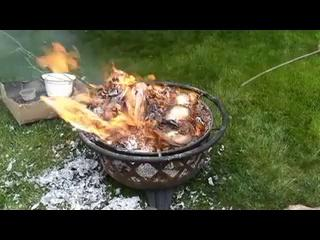Fire: (44, 72, 179, 140)
